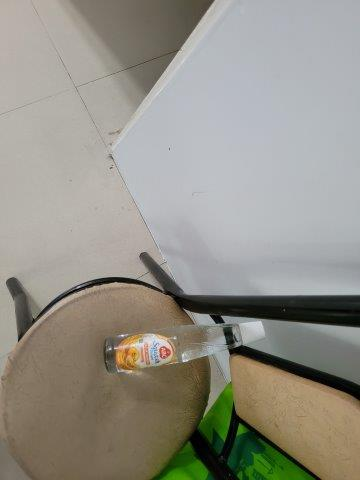botolkaca: (104, 320, 266, 375)
